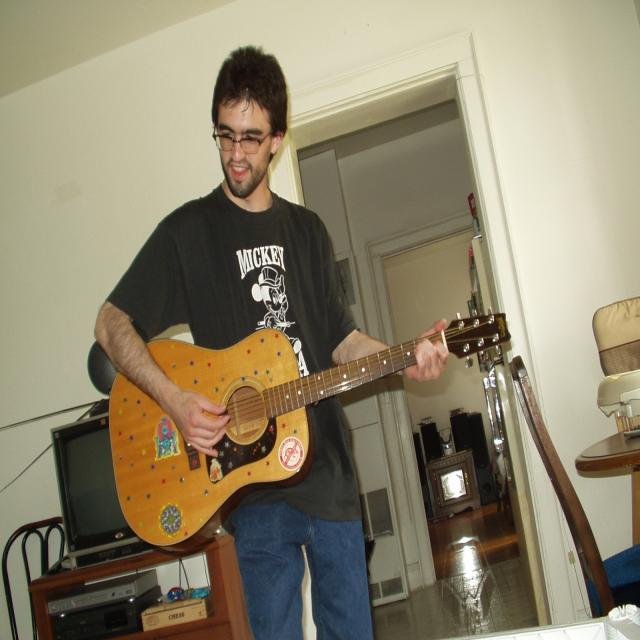guitar: (108, 311, 512, 553)
